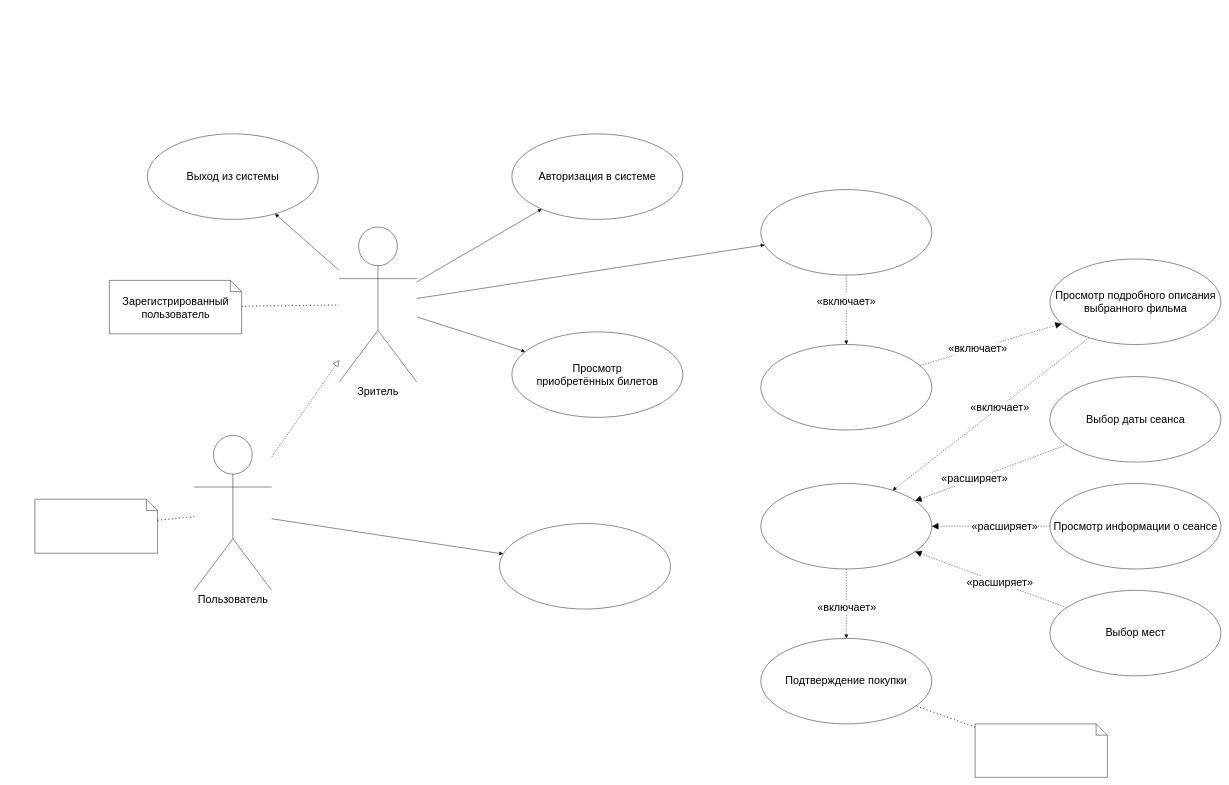
Image size: 1229x785. Some labels were removed from this diagram. The centre of each missing label's shape, as x and y in pixels:
Выбор фильма: [846,387]
Новый пользователь: [96,526]
Покупка билетов: [846,526]
Просмотр афиши фильмов: [846,232]
Регистрация: [584,566]
Уведомить об успешной покупке: [1041,750]
